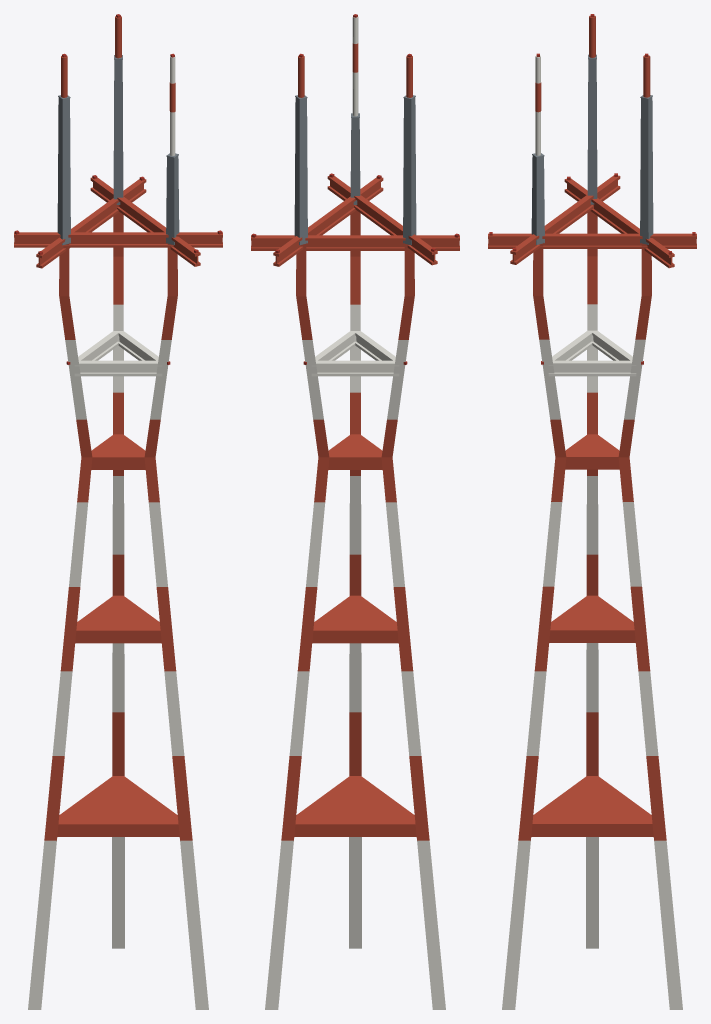
File: sutro-tower-far.glb
The picture shows the model from 3 angles, left to right: view 1: azimuth 30°, elevation 25°; view 2: azimuth 150°, elevation 25°; view 3: azimuth 270°, elevation 25°; orthographic projection.
Visible parts, largest first — view 1: sutro-tower-0-orange, sutro-tower-0-white, sutro-tower-0-steel; view 2: sutro-tower-0-orange, sutro-tower-0-white, sutro-tower-0-steel; view 3: sutro-tower-0-orange, sutro-tower-0-white, sutro-tower-0-steel.
Boxes of the visible parts, bbox=[...] form: sutro-tower-0-orange: bbox=[14, 16, 222, 840]; sutro-tower-0-white: bbox=[28, 56, 208, 1009]; sutro-tower-0-steel: bbox=[57, 55, 179, 245]; sutro-tower-0-orange: bbox=[251, 43, 459, 840]; sutro-tower-0-white: bbox=[265, 17, 445, 1009]; sutro-tower-0-steel: bbox=[294, 95, 416, 245]; sutro-tower-0-orange: bbox=[488, 15, 696, 840]; sutro-tower-0-white: bbox=[502, 55, 682, 1009]; sutro-tower-0-steel: bbox=[531, 54, 653, 244].
Size of the model in its own units: 52.49 by 298 by 59.51.
